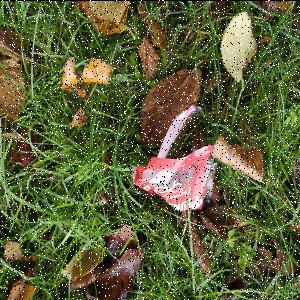Trash: (132, 104, 220, 212)
